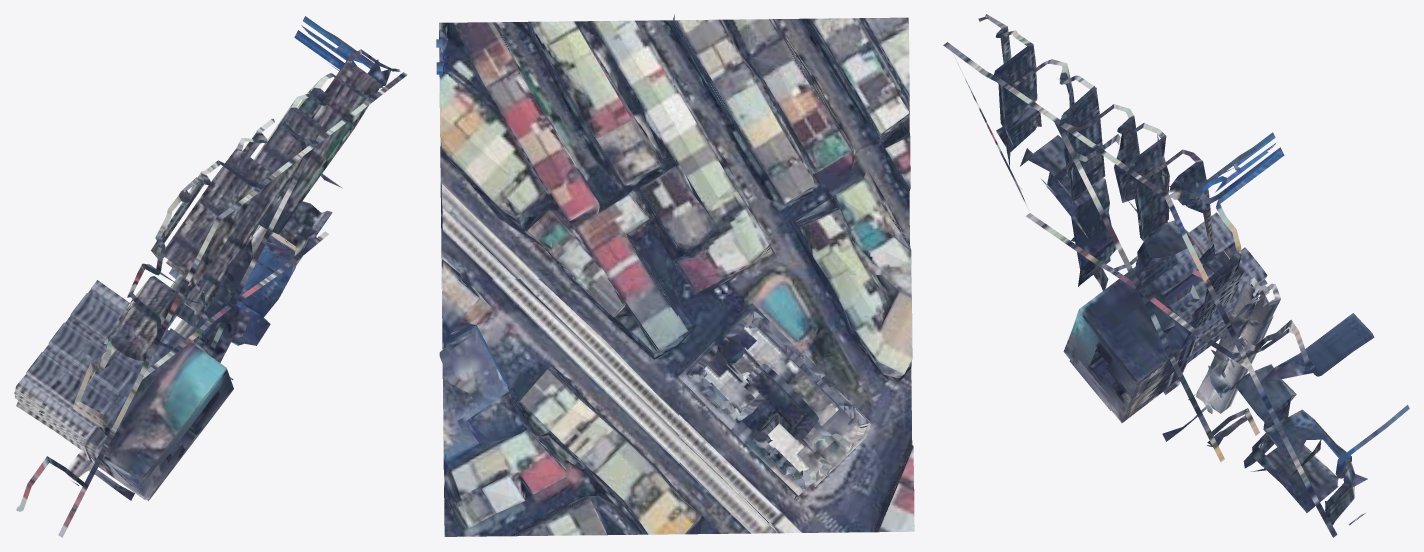
3 views of the same model, side by side, from view 1: azimuth 30°, elevation 25°; view 2: azimuth 150°, elevation 25°; view 3: azimuth 270°, elevation 25° (orthographic). The views are drawn at different scales.
Bounding box in the file's own units: 161 × 154 × 152.
2 materials, 2 textured.
